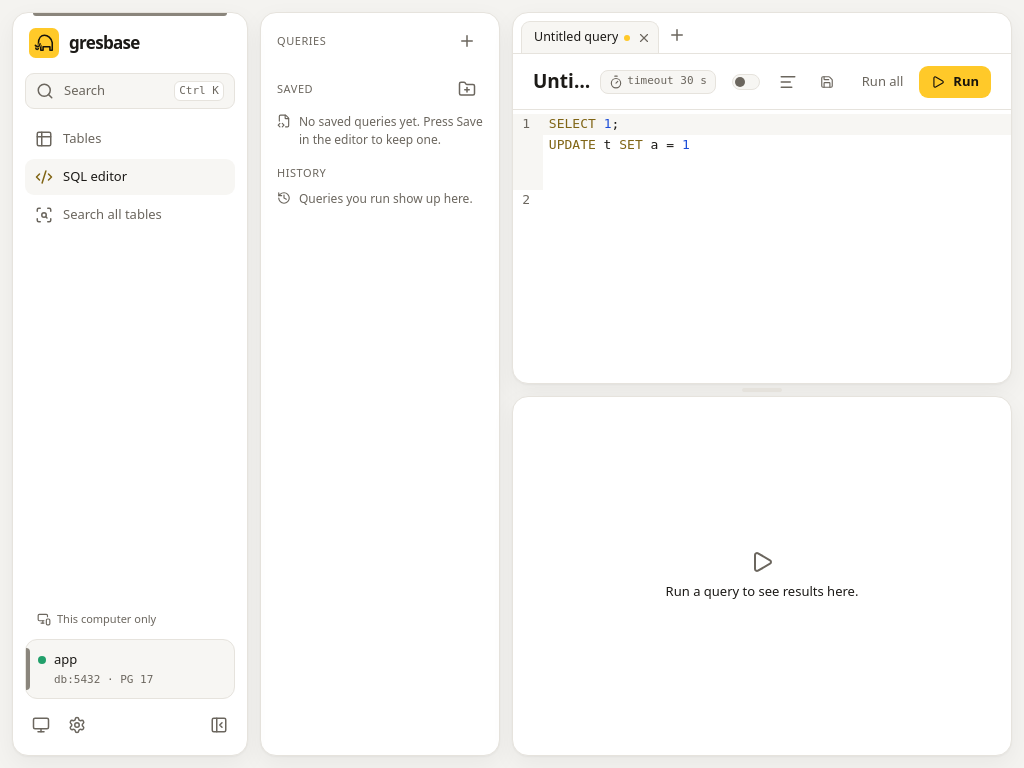
SQL editor › runs everything with "Run all" and shows a tab per statement
The image size is (1024, 768).
Click the button "Run all": (883, 82) [850,66,915,98]
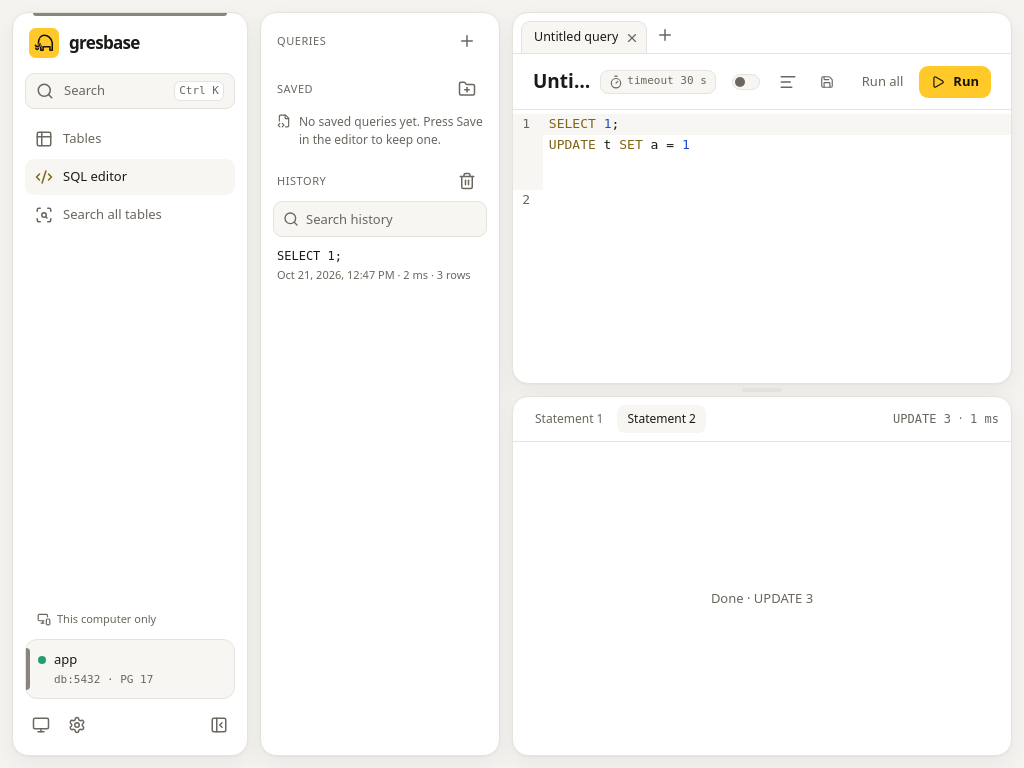
Now the text "Done · UPDATE 3" is shown, box [711,589,813,607]
Click the tab "Statement 1": (569, 419) [525,405,614,433]
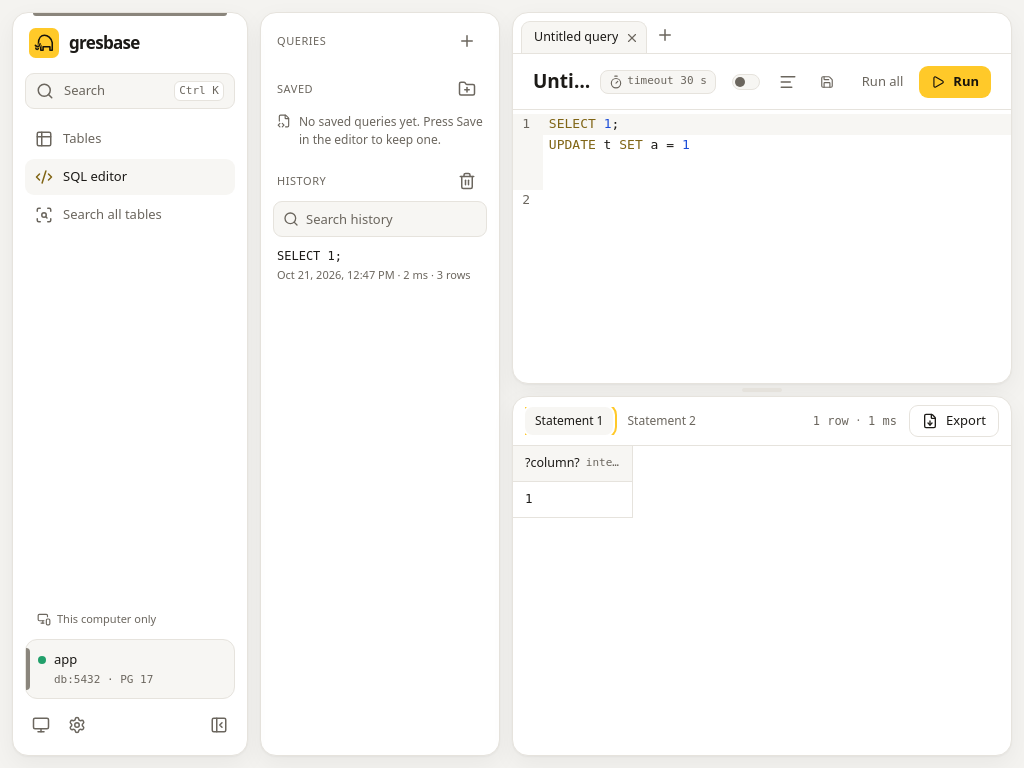
Now the table named "Results of statement 1" is shown, box [513,446,633,518]
